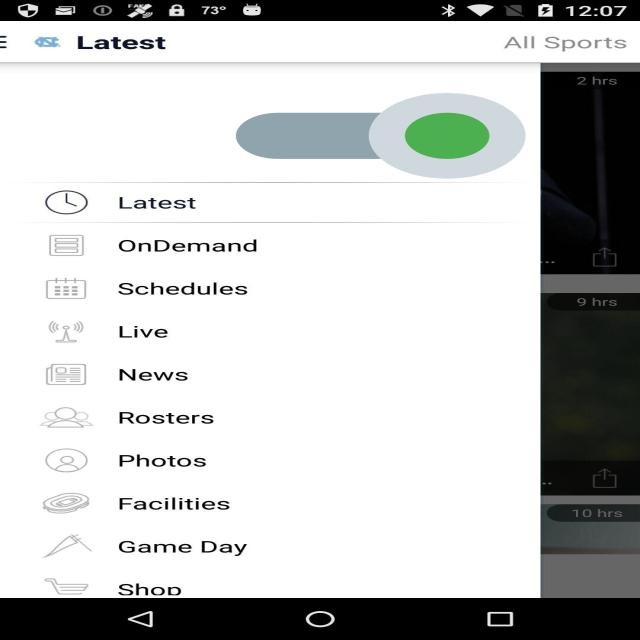social proof: (235, 57, 526, 215)
